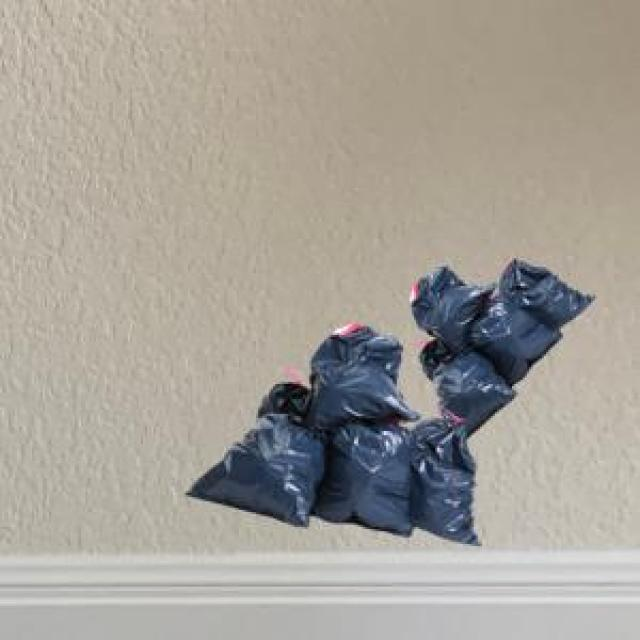Vinyl: (188, 261, 592, 544)
